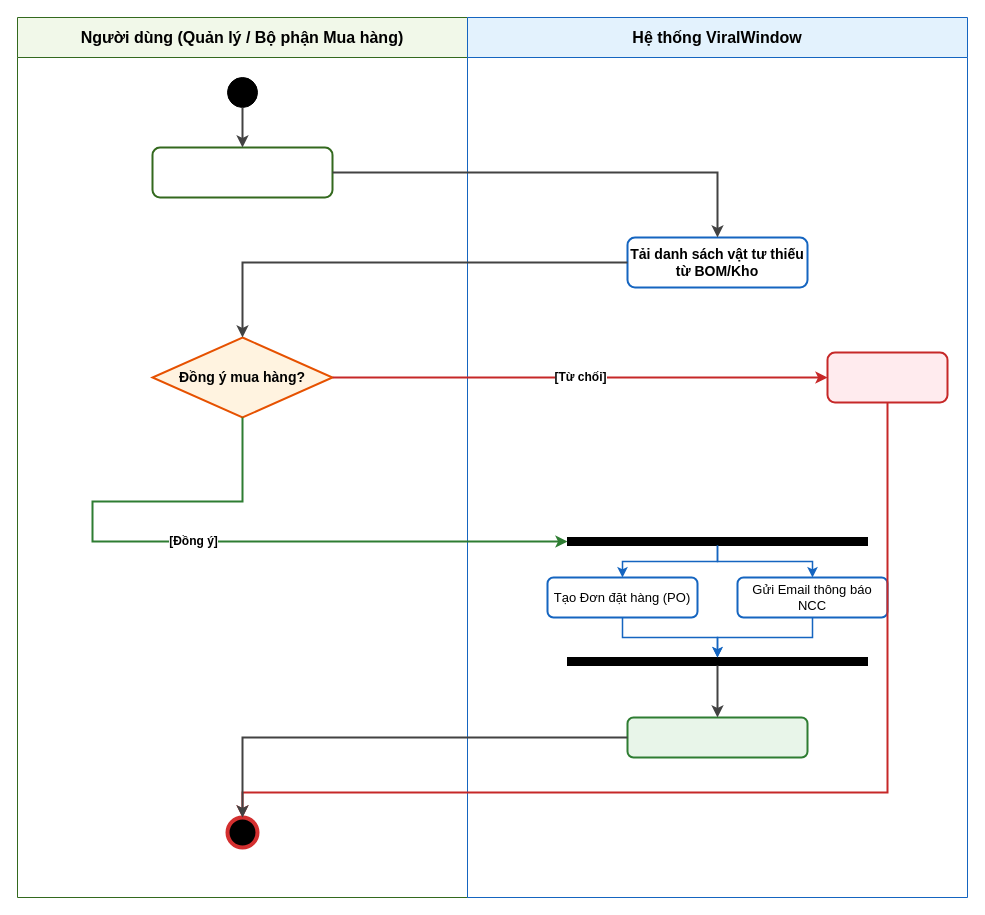
Image size: 985x915. Some labels were removed from this diagram. Each missing label, with the centre of its shape:
Cập nhật trạng thái [Từ chối]: the point at 887,377
Hoàn thành đơn đặt hàng: the point at 717,737
Kiểm duyệt danh sách Yêu cầu mua hàng (PR): the point at 242,172
